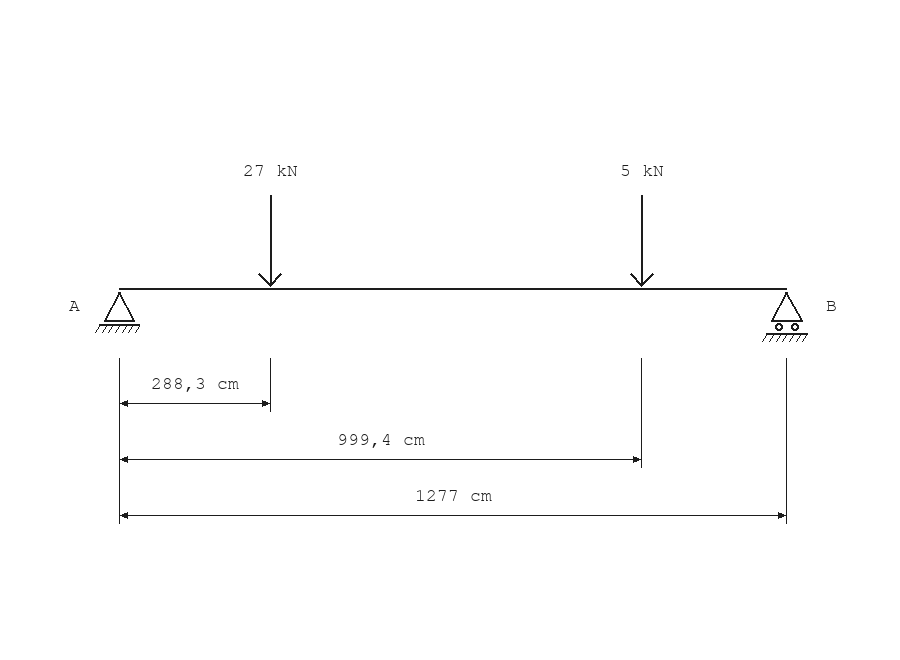pin_support: (95, 292, 140, 333)
point_load: (258, 195, 282, 287), (630, 195, 654, 287)
roller_support: (762, 292, 808, 342)
